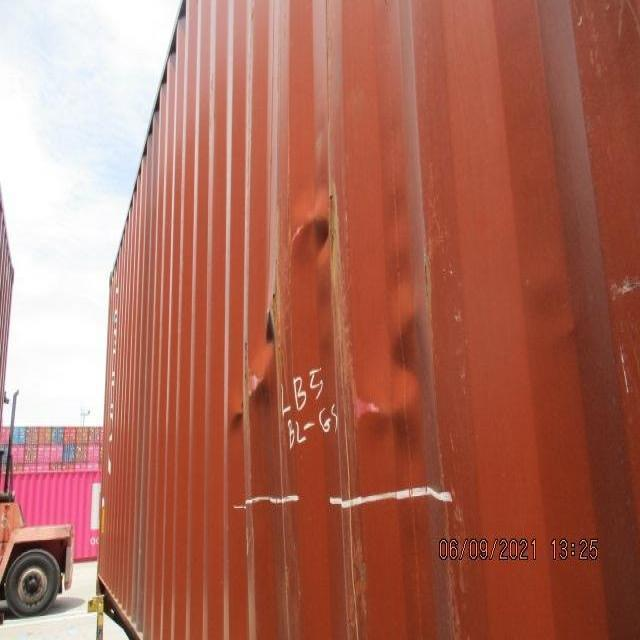dent: (224, 161, 484, 506)
